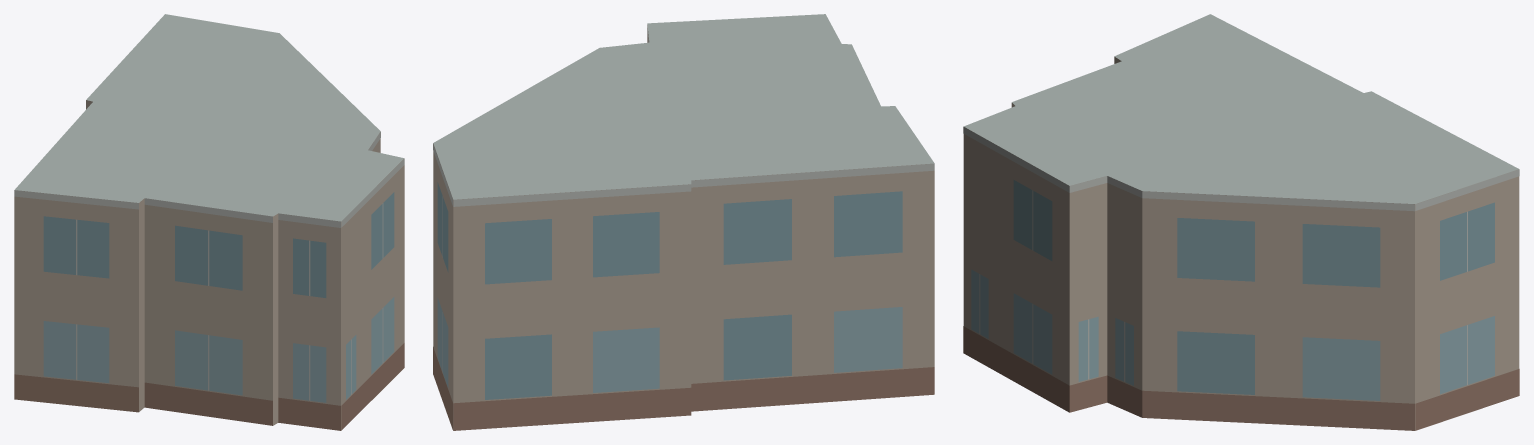
Rendered from survey-upis-32631955.glb.
The picture shows the model from 3 angles, left to right: view 1: azimuth 30°, elevation 25°; view 2: azimuth 150°, elevation 25°; view 3: azimuth 270°, elevation 25°; orthographic projection. The views are drawn at different scales.
Parts seen in each view (by area): view 1: survey-upis-32631955.tmp; view 2: survey-upis-32631955.tmp; view 3: survey-upis-32631955.tmp.
Boxes of the visible parts, x1,y1,x2,y2 form: survey-upis-32631955.tmp: (14, 14, 404, 430); survey-upis-32631955.tmp: (433, 14, 934, 430); survey-upis-32631955.tmp: (963, 14, 1519, 430).
Bounding box in the file's own units: 14.04 × 7.8 × 17.34.
